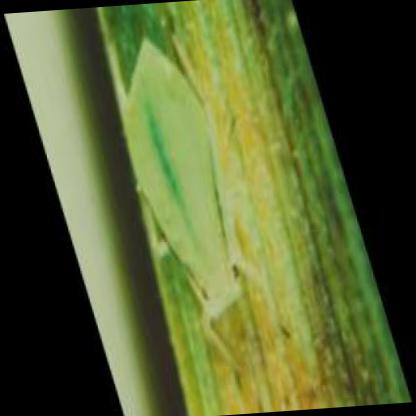schizaphis graminum: (115, 42, 244, 325)
